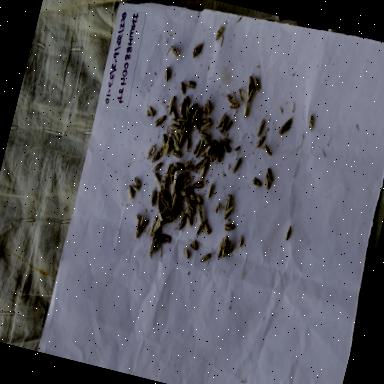pbw: (218, 234, 232, 258), (208, 139, 222, 161), (214, 236, 226, 260), (150, 146, 164, 166), (148, 234, 160, 257), (156, 231, 172, 248), (153, 190, 165, 212), (192, 104, 204, 126), (188, 104, 200, 126), (191, 156, 204, 176), (253, 132, 266, 152), (152, 110, 166, 128), (213, 22, 225, 43), (231, 154, 242, 176), (161, 136, 171, 160), (124, 184, 136, 204), (255, 117, 266, 138), (283, 223, 294, 244), (150, 218, 162, 237), (250, 75, 262, 94), (178, 244, 192, 260), (160, 138, 174, 154), (198, 249, 212, 265), (148, 214, 158, 236), (138, 216, 150, 234), (260, 174, 272, 192), (304, 114, 316, 132), (144, 144, 156, 162), (245, 84, 255, 105), (167, 44, 181, 59), (218, 113, 228, 134), (193, 138, 203, 159), (177, 125, 187, 146), (161, 65, 172, 84), (150, 159, 163, 175), (263, 167, 275, 184), (144, 104, 156, 121), (210, 199, 222, 216), (177, 211, 187, 231), (137, 210, 147, 230), (158, 132, 169, 150), (222, 117, 233, 135), (215, 112, 226, 130), (249, 176, 263, 190), (179, 173, 191, 189), (200, 220, 212, 236), (176, 80, 188, 96), (164, 94, 176, 110), (279, 116, 291, 132), (158, 184, 170, 200), (148, 188, 158, 207), (191, 137, 201, 156), (222, 193, 232, 212), (202, 99, 213, 116), (157, 195, 170, 209), (132, 222, 142, 240), (182, 133, 192, 151), (150, 172, 162, 187), (164, 98, 174, 116), (234, 87, 246, 102), (182, 200, 194, 215), (198, 156, 209, 172), (195, 210, 206, 226), (200, 142, 211, 158), (222, 221, 235, 234), (222, 246, 234, 260), (262, 144, 274, 158), (176, 169, 188, 183), (191, 178, 205, 190), (166, 164, 180, 176), (240, 102, 249, 120), (170, 192, 178, 212), (206, 181, 214, 201), (170, 206, 180, 222), (166, 182, 176, 198), (170, 137, 180, 153), (228, 100, 241, 112), (224, 92, 237, 104), (133, 212, 144, 226), (190, 46, 201, 60), (192, 40, 203, 54), (183, 214, 194, 228), (182, 95, 191, 112), (199, 115, 211, 127), (198, 163, 206, 181), (188, 240, 200, 252), (184, 78, 196, 90), (170, 168, 178, 186), (170, 148, 182, 160), (182, 184, 194, 196), (154, 210, 166, 222), (277, 124, 289, 136), (183, 156, 193, 170), (245, 76, 255, 90), (224, 203, 234, 217), (176, 104, 186, 118), (160, 174, 170, 188), (215, 147, 223, 164), (235, 234, 244, 249), (131, 176, 142, 188), (165, 170, 176, 182), (218, 136, 231, 146), (194, 193, 204, 206), (244, 84, 252, 100), (167, 132, 178, 143), (185, 190, 196, 201), (129, 182, 140, 193), (169, 116, 181, 126), (162, 215, 174, 225), (172, 160, 184, 170), (220, 144, 232, 154), (168, 108, 178, 120), (175, 188, 187, 198), (183, 163, 195, 173), (200, 120, 210, 132), (194, 224, 203, 237), (180, 116, 188, 130), (163, 162, 171, 176), (206, 152, 216, 163), (192, 119, 201, 131), (164, 200, 172, 213), (186, 201, 196, 211), (168, 122, 179, 131), (198, 131, 209, 140), (182, 199, 190, 211), (186, 100, 194, 112), (184, 122, 192, 134), (193, 204, 202, 212)
